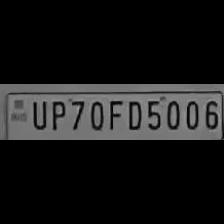0: (86, 97, 106, 130), (163, 97, 181, 130), (182, 98, 200, 130)
5: (143, 97, 161, 130)
6: (201, 96, 219, 130)
7: (66, 98, 86, 132)
D: (124, 97, 142, 130)
F: (105, 97, 123, 130)
P: (47, 97, 67, 130)
U: (27, 98, 47, 130)
